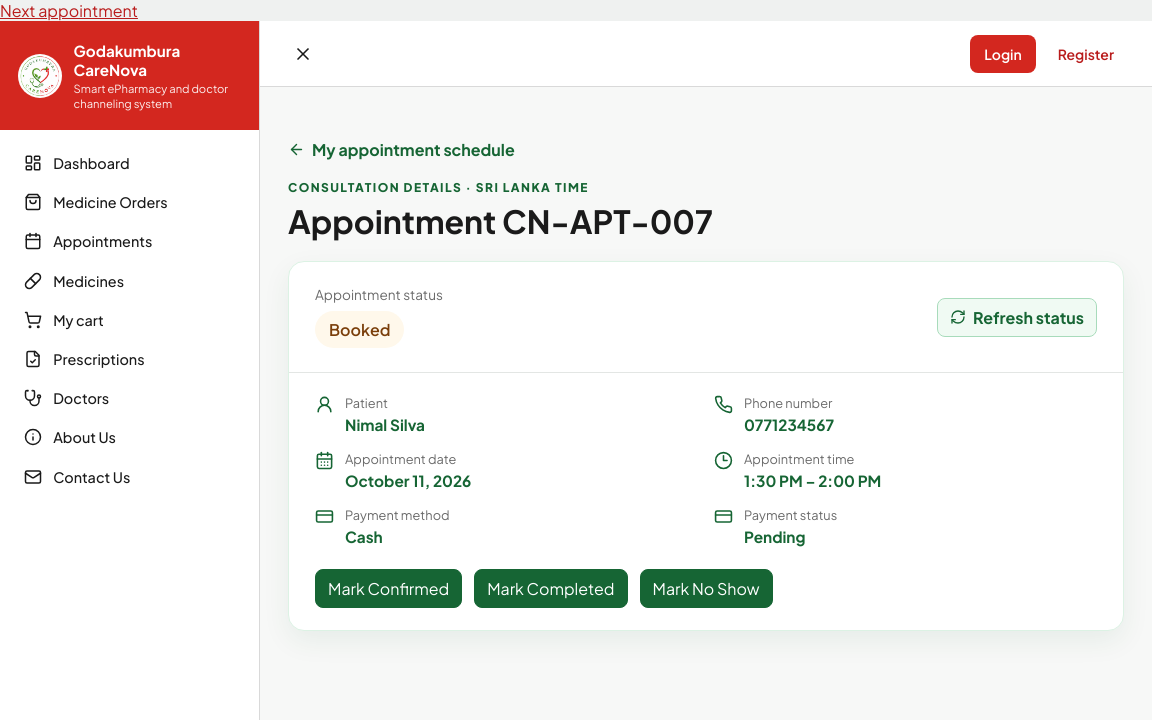
it: preserves details on a rejected update {"response":{"status":409}}
Click the button "Mark Completed" at (551, 589), box 474,569 -> 628,608
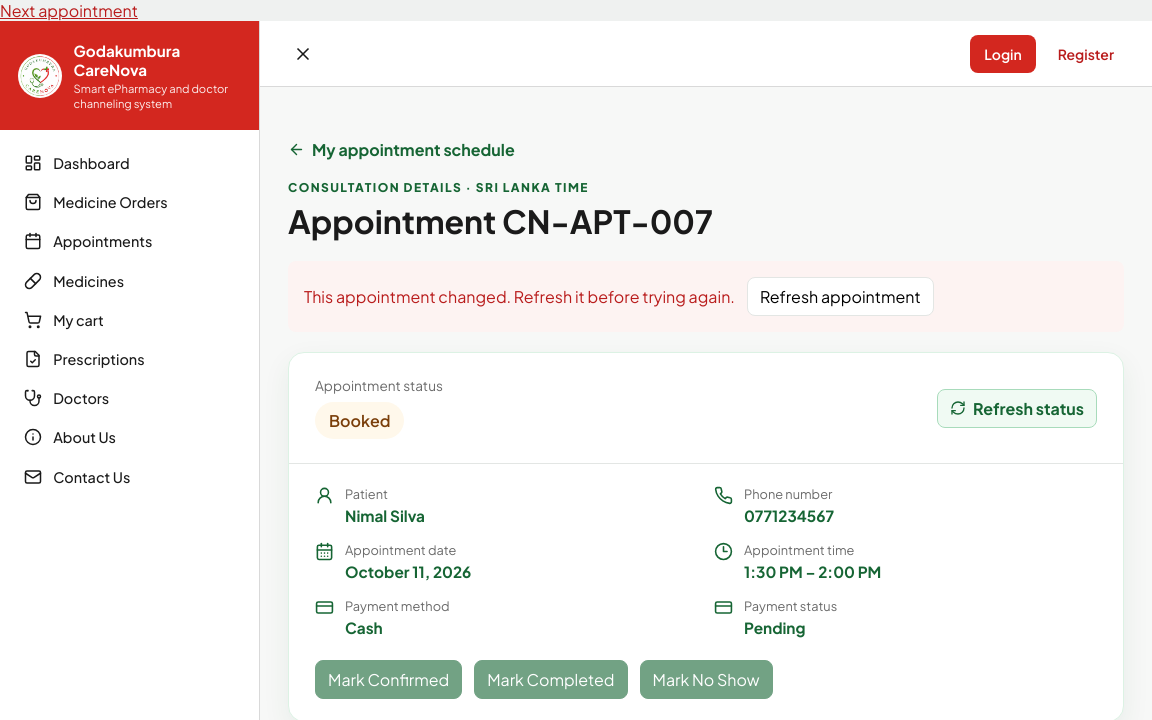
Expected: the text "Nimal Silva" is shown, 345,506 -> 425,525
Now the message "This appointment changed. Refresh it before trying again. Refresh appointment" is shown, box 288,261 -> 1124,332
